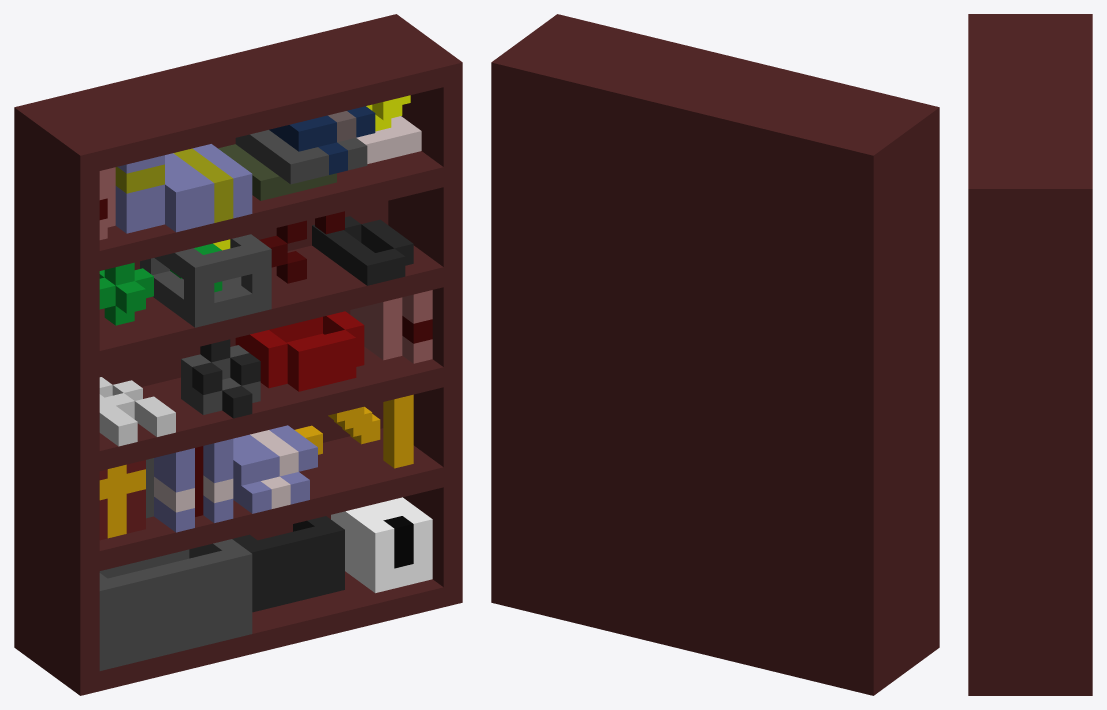
Rendered from bookshelf.obj.
The picture shows the model from 3 angles, left to right: view 1: azimuth 30°, elevation 25°; view 2: azimuth 150°, elevation 25°; view 3: azimuth 270°, elevation 25°; orthographic projection. The views are drawn at different scales.
Size of the model in its own units: 2 by 2.7 by 0.6.
